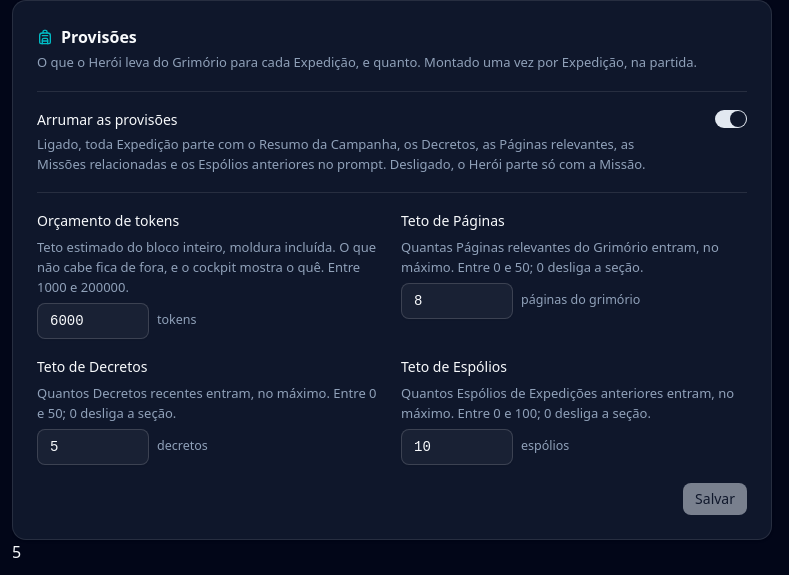
it: bloco das provisões em Settings › hidrata os cinco campos e só habilita salvar quando algo muda
Expected: the text "Provisões" is shown, [61,25,137,49]
Expected: the button "Salvar" is disabled, [683,482,747,514]
Replace the text in the number field labelled "Orçamento de tokens" with "8000" at (93, 320), box [37,302,149,338]
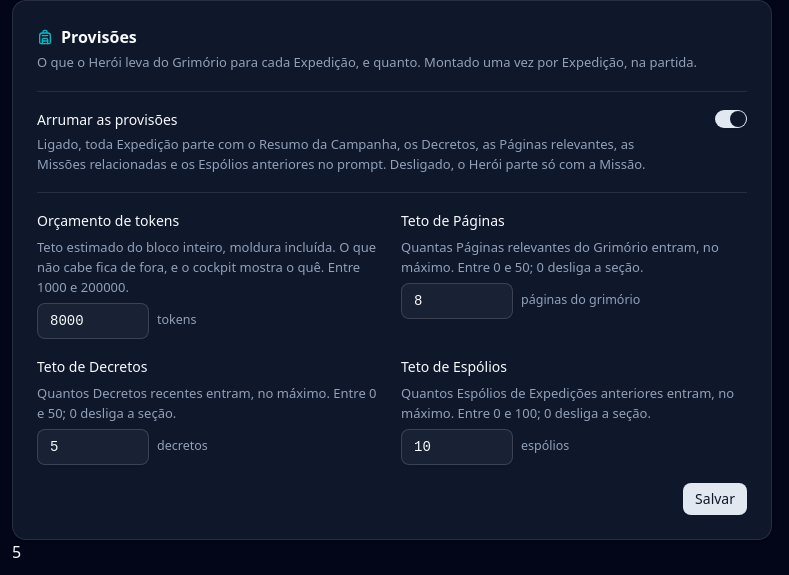
Result: the button "Salvar" is enabled at [683,482,747,514]
